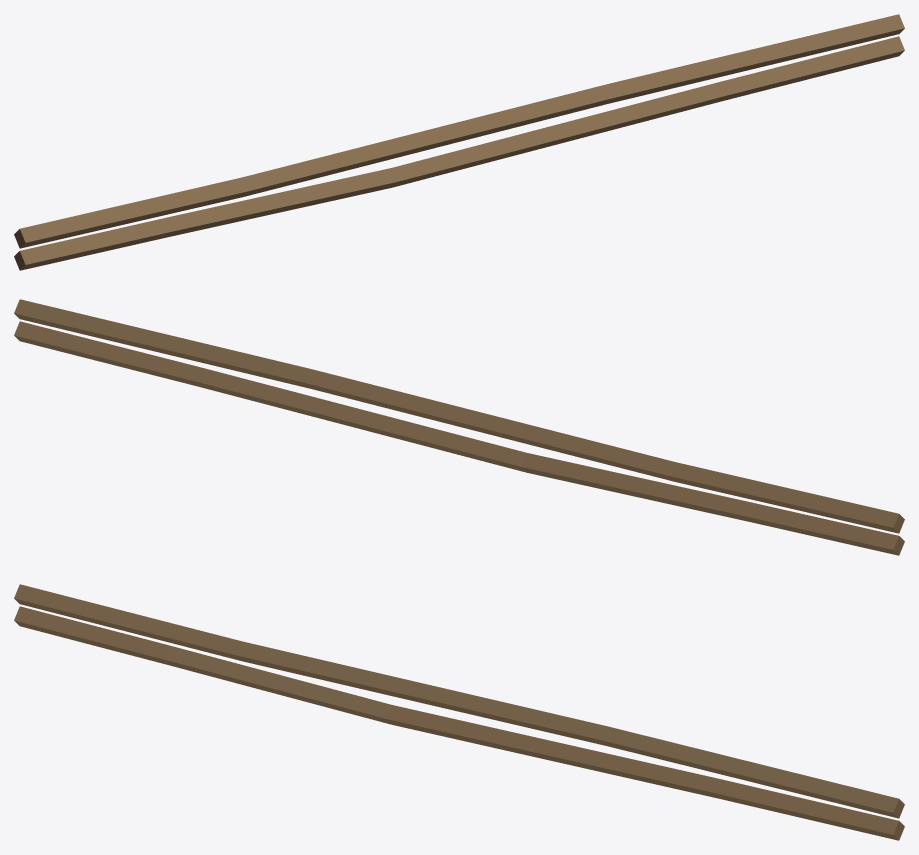
The model's file is SM_Prop_Wires_03.fbx.
3 views of the same model, one above another, from view 1: azimuth 30°, elevation 25°; view 2: azimuth 150°, elevation 25°; view 3: azimuth 330°, elevation 25° (orthographic).
Parts seen in each view (by area): view 1: SM_Prop_Wires_03; view 2: SM_Prop_Wires_03; view 3: SM_Prop_Wires_03.
Part boxes in pixels (left/top/right/bottom): SM_Prop_Wires_03: left=14, top=14, right=904, bottom=270; SM_Prop_Wires_03: left=14, top=299, right=904, bottom=555; SM_Prop_Wires_03: left=14, top=584, right=904, bottom=840.
Size of the model in its own units: 125 by 6.94 by 2.85.
